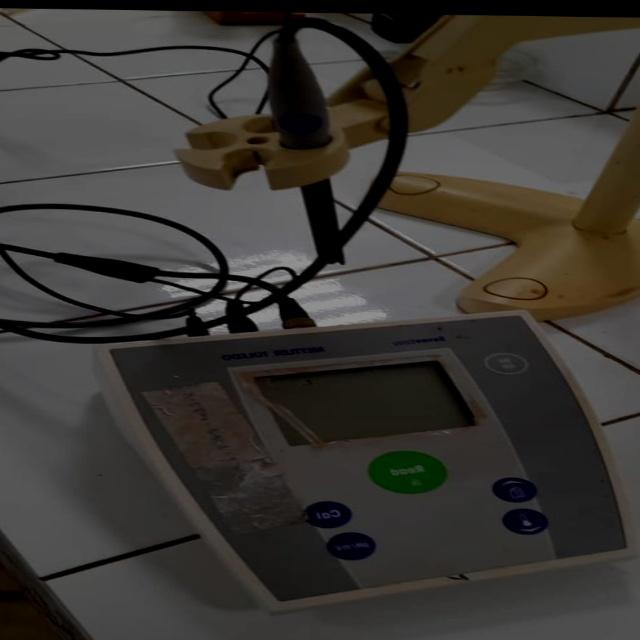PH meter: (0, 26, 640, 640)
